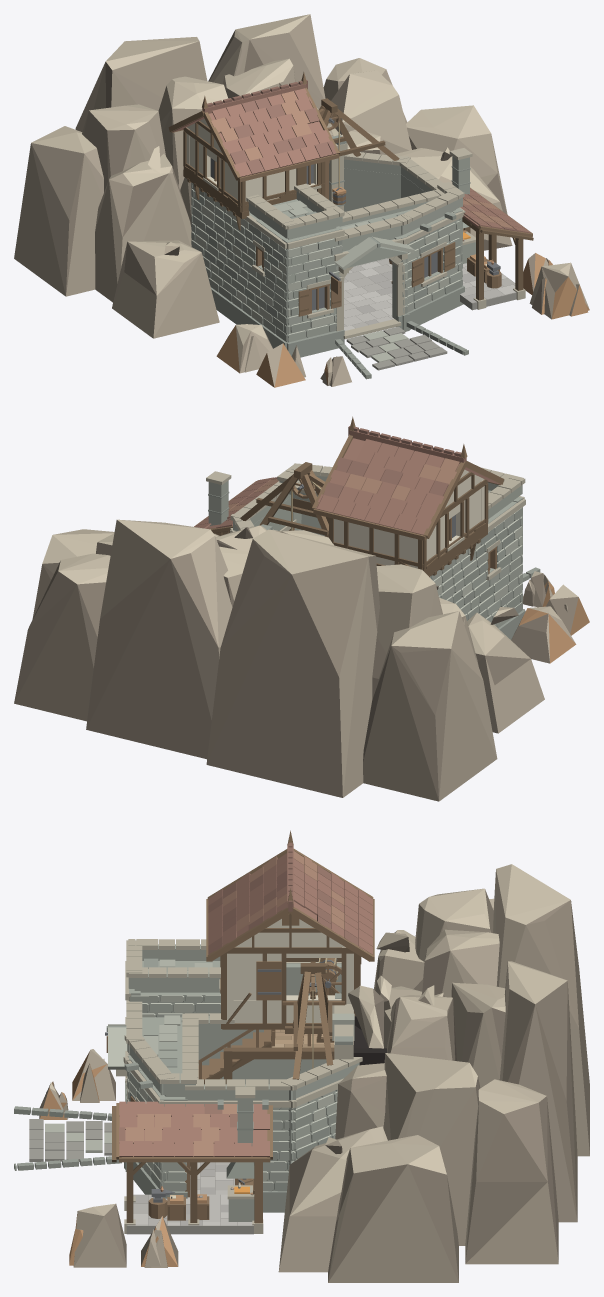
Rendered from quarry.glb.
3 renders of one model, top to bottom at view 1: azimuth 30°, elevation 25°; view 2: azimuth 150°, elevation 25°; view 3: azimuth 270°, elevation 25°, orthographic. The views are drawn at different scales.
Visible parts, largest first — view 1: Quarry_RockMain, Quarry_ShellMain, Quarry_RoofMain, Quarry_OreRockMain, Quarry_UpperShellMain, Quarry_FloorMainTiles, Quarry_FloorApproachMain, Quarry_FurnishingMain, Quarry_FloorLeanToMainTiles, Quarry_StepMain; view 2: Quarry_RockMain, Quarry_RoofMain, Quarry_ShellMain, Quarry_UpperShellMain, Quarry_OreRockMain; view 3: Quarry_RockMain, Quarry_RoofMain, Quarry_ShellMain, Quarry_UpperShellMain, Quarry_OreRockMain, Quarry_FurnishingMain, Quarry_FloorApproachMain, Quarry_FloorLeanToMainTiles, Quarry_FloorLeanToMain, Quarry_FloorMainTiles, Quarry_ServiceShaft_Mouth, Quarry_StairTreads (+1 smaller).
Part boxes in pixels (x1,y1,x2,y2): Quarry_RockMain: [14, 14, 512, 338]; Quarry_ShellMain: [191, 135, 533, 357]; Quarry_RoofMain: [168, 72, 532, 274]; Quarry_OreRockMain: [216, 253, 589, 387]; Quarry_UpperShellMain: [183, 127, 325, 230]; Quarry_FloorMainTiles: [344, 258, 393, 330]; Quarry_FloorApproachMain: [346, 326, 447, 370]; Quarry_FurnishingMain: [331, 121, 501, 379]; Quarry_FloorLeanToMainTiles: [460, 263, 516, 303]; Quarry_StepMain: [343, 319, 401, 339]; Quarry_RockMain: [14, 519, 544, 801]; Quarry_RoofMain: [194, 416, 525, 540]; Quarry_ShellMain: [206, 471, 525, 639]; Quarry_UpperShellMain: [329, 479, 488, 577]; Quarry_OreRockMain: [511, 571, 589, 663]; Quarry_RockMain: [278, 864, 589, 1282]; Quarry_RoofMain: [106, 830, 374, 1162]; Quarry_ShellMain: [105, 961, 354, 1233]; Quarry_UpperShellMain: [219, 947, 361, 1029]; Quarry_OreRockMain: [39, 1049, 178, 1267]; Quarry_FurnishingMain: [14, 990, 313, 1221]; Quarry_FloorApproachMain: [29, 1119, 111, 1161]; Quarry_FloorLeanToMainTiles: [127, 1194, 253, 1225]; Quarry_FloorLeanToMain: [126, 1225, 253, 1234]; Quarry_FloorMainTiles: [190, 1162, 234, 1194]; Quarry_ServiceShaft_Mouth: [353, 1016, 386, 1065]; Quarry_StairTreads: [198, 1029, 271, 1079].
Bounding box in the file's own units: 18 × 9.37 × 18.47.
